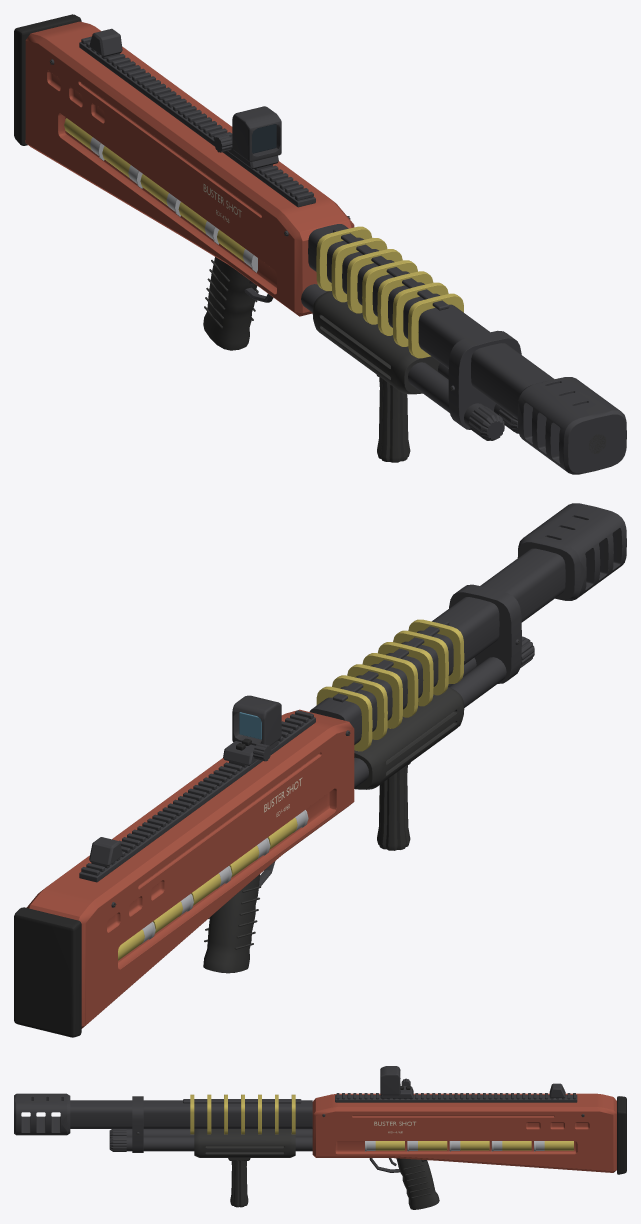
The model's file is bustershot.glb.
3 renders of one model, top to bottom at view 1: azimuth 30°, elevation 25°; view 2: azimuth 150°, elevation 25°; view 3: azimuth 270°, elevation 25°, orthographic. The views are drawn at different scales.
Parts seen in each view (by area): view 1: Body; view 2: Body; view 3: Body.
Boxes of the visible parts, x1=… form: Body: x1=14, y1=14, x2=626, y2=474; Body: x1=14, y1=503, x2=626, y2=1037; Body: x1=14, y1=1066, x2=626, y2=1209.
Bounding box in the file's own units: 0.0772 × 0.2693 × 1.09.
